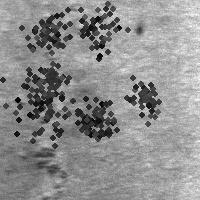rolled-in_scale: (0, 54, 95, 156), (59, 0, 131, 63), (18, 111, 67, 200), (16, 0, 78, 60), (16, 49, 74, 107), (64, 91, 122, 149), (118, 69, 170, 121), (41, 1, 85, 58)
